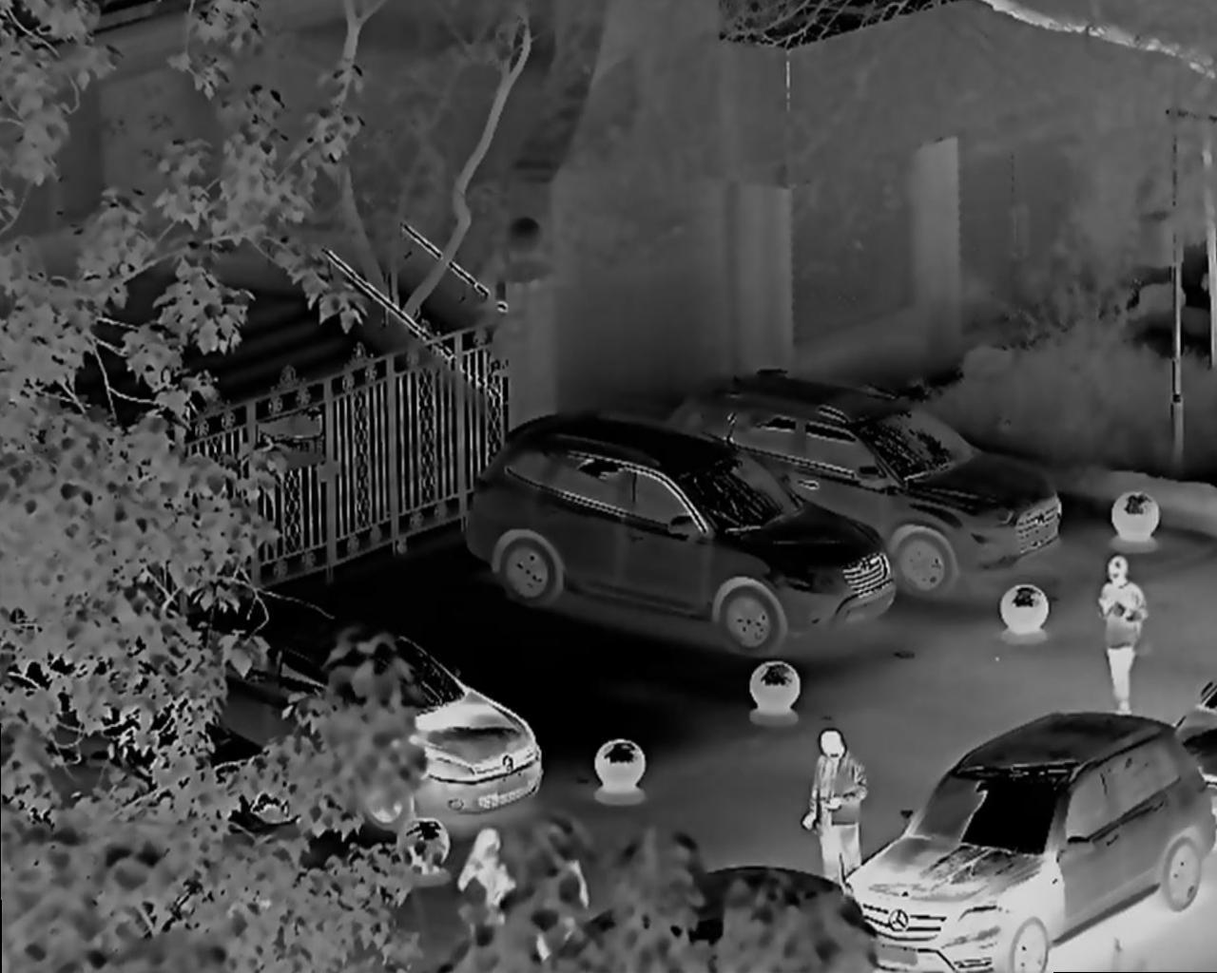person: (801, 720, 861, 904), (455, 823, 510, 960), (1101, 549, 1146, 704)
